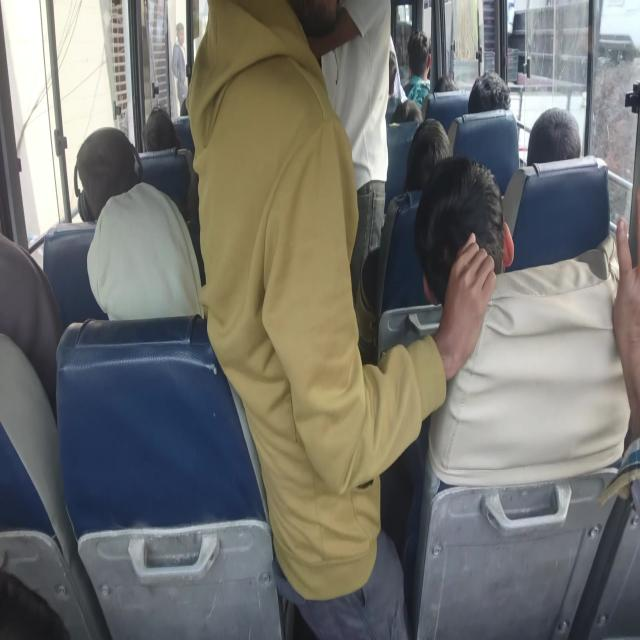person: (34, 130, 272, 630), (400, 148, 640, 602), (43, 204, 207, 334), (190, 0, 320, 143), (413, 156, 505, 304), (500, 157, 610, 274), (1, 228, 64, 428), (446, 109, 521, 197), (78, 138, 134, 207), (402, 116, 450, 193), (526, 106, 582, 168), (423, 90, 471, 138), (468, 70, 512, 116), (151, 104, 176, 148), (432, 75, 460, 93)
